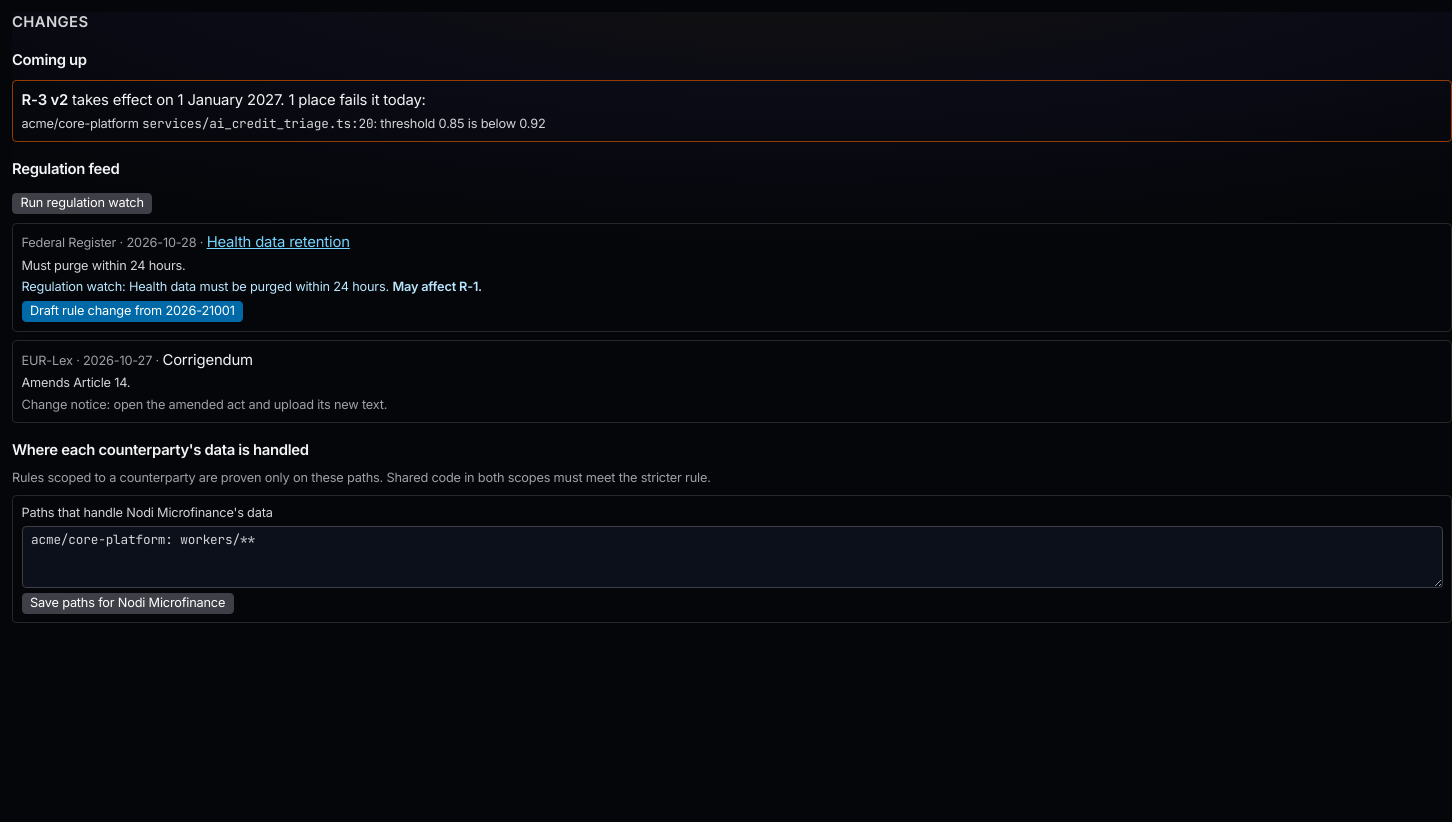
Test: Regulation watch › shows the summary and the rules an item may affect, and runs the watch for Legal
Expected: the list item with aria-label "Feed item 2026-21001" shows "Regulation watch: Health data must be purged within 24 hours.", [12,223,1451,332]
Expected: the list item with aria-label "Feed item 2026-21001" shows "May affect R-1.", [12,223,1451,332]
Click the button "Run regulation watch".
click(82, 204)  # box [12,193,152,214]
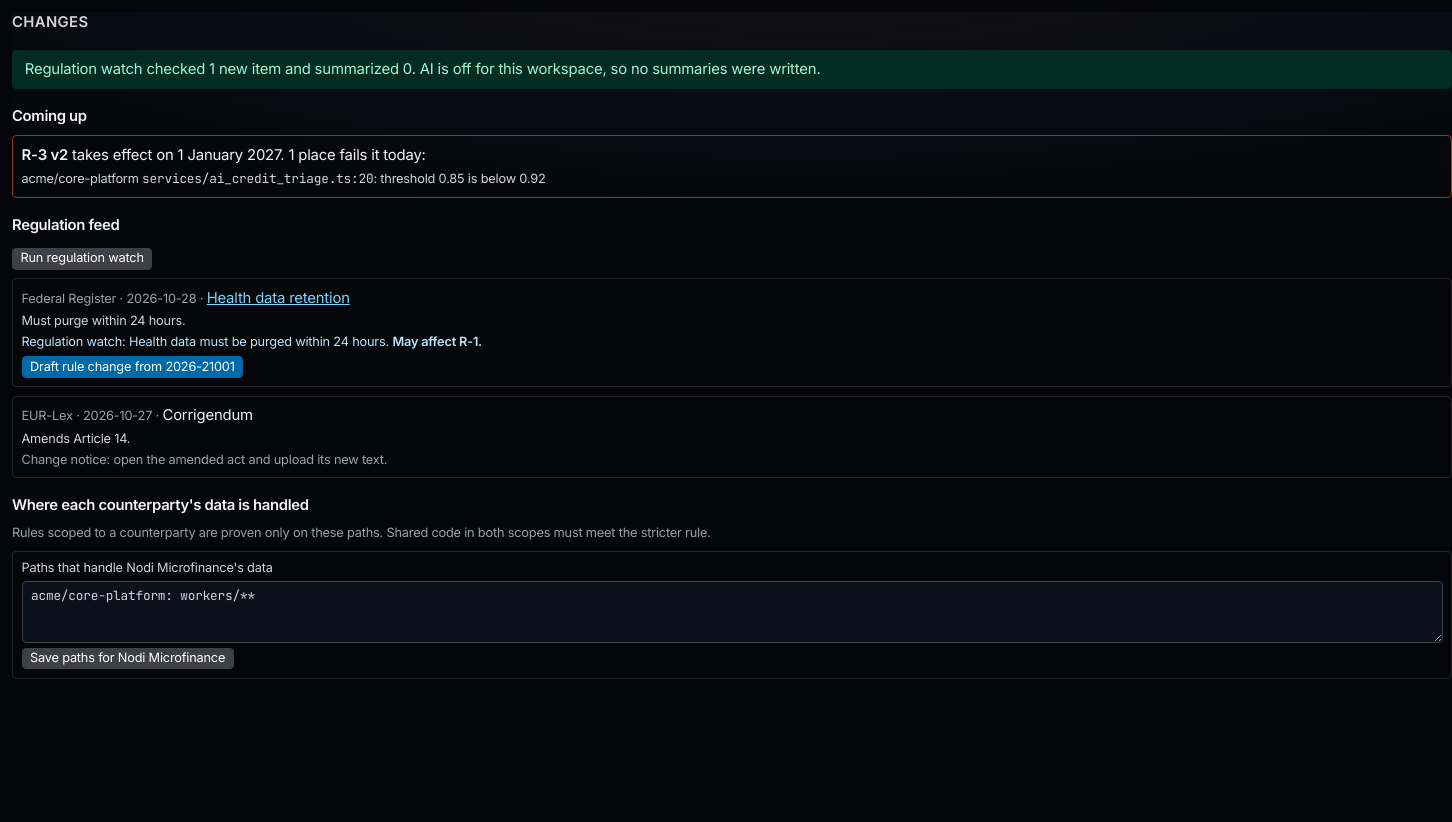
Expected: the message shows "Regulation watch checked 1 new item and summarized 0. AI is off for this workspace, so no summaries were written.", [25,60,820,78]
